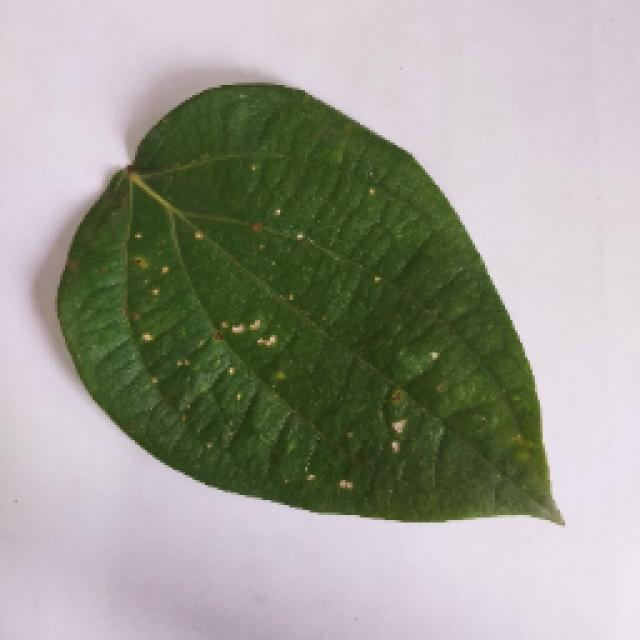pollu-disease: (40, 75, 572, 533)
